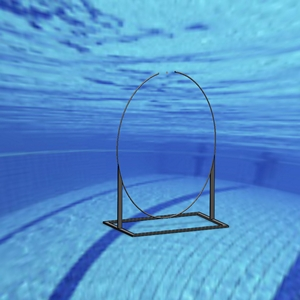circle: (103, 70, 229, 237)
